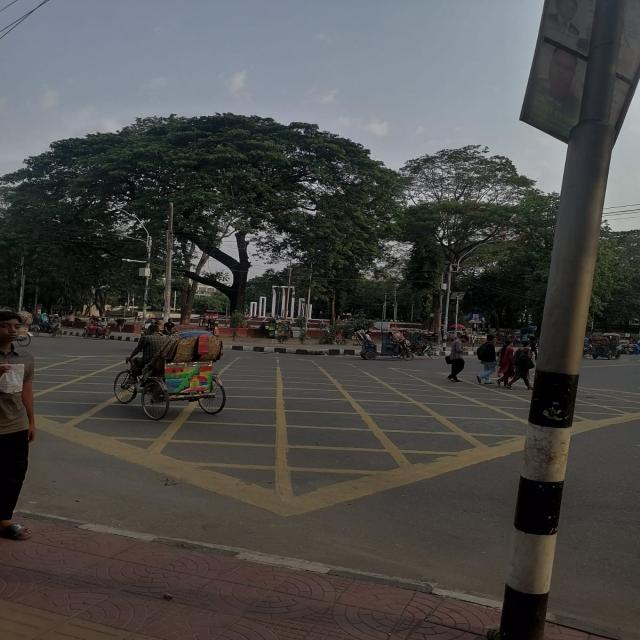person: (505, 340, 534, 390), (446, 334, 470, 382), (476, 335, 496, 385), (496, 340, 514, 387)
